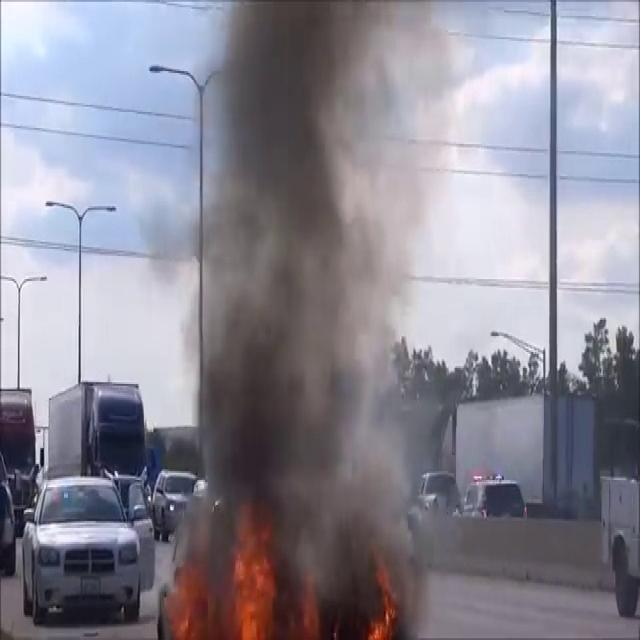Fire: (166, 533, 311, 640)
Smoke: (169, 0, 450, 620)
